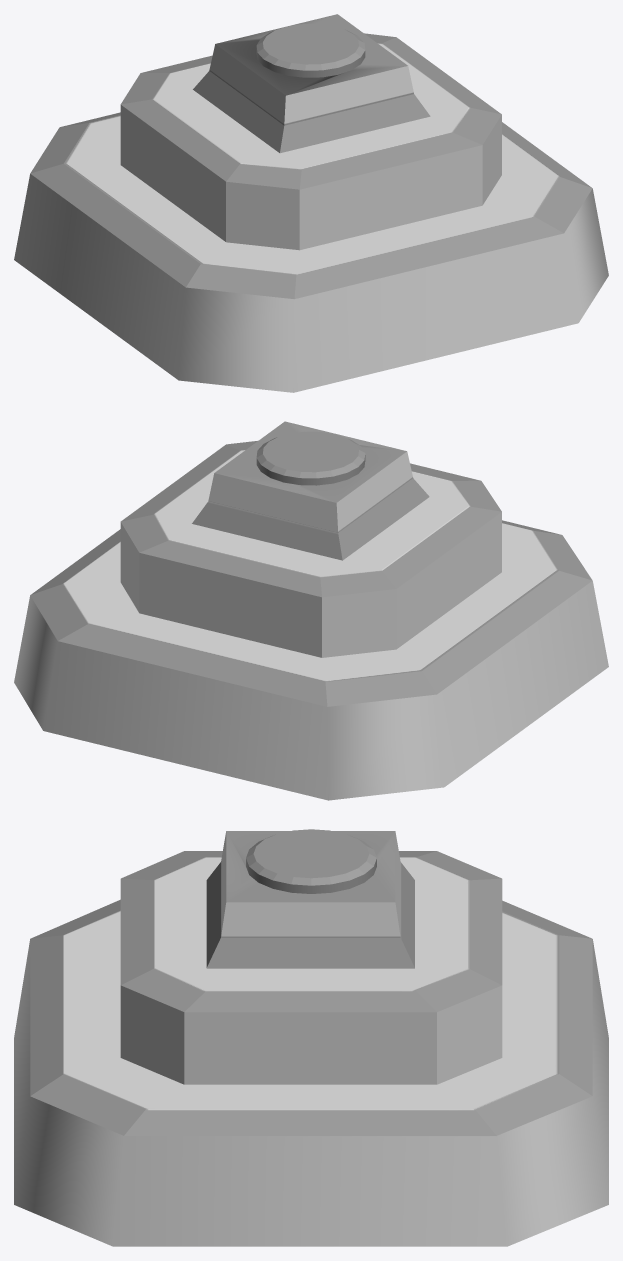
File: MissilePort.fbx
3 renders of one model, top to bottom at view 1: azimuth 30°, elevation 25°; view 2: azimuth 150°, elevation 25°; view 3: azimuth 270°, elevation 25°, orthographic. The views are drawn at different scales.
Parts seen in each view (by area): view 1: MissilePod_Body, MissilePod_Cover; view 2: MissilePod_Body, MissilePod_Cover; view 3: MissilePod_Body, MissilePod_Cover.
Part boxes in pixels (x1,y1,x2,y2): MissilePod_Body: (14,14,608,392); MissilePod_Cover: (256,24,365,77); MissilePod_Body: (14,421,608,800); MissilePod_Cover: (256,431,365,485); MissilePod_Body: (14,831,608,1246); MissilePod_Cover: (246,829,376,893).
Size of the model in its own units: 6 by 2.97 by 6.
